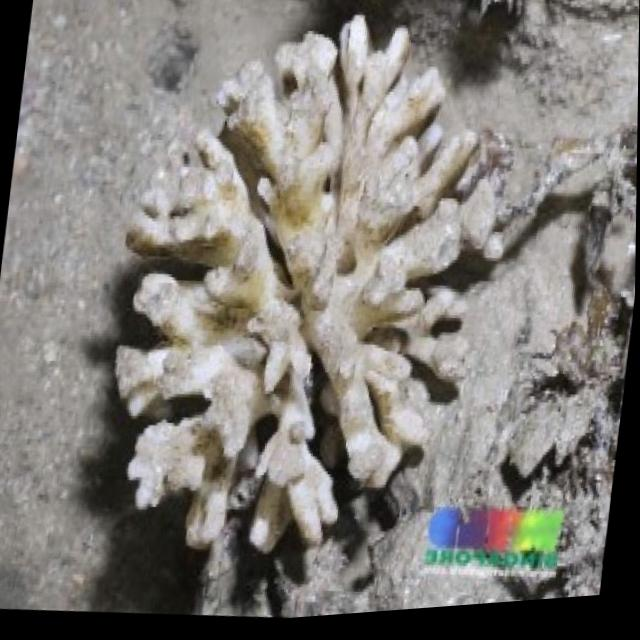Bleached Coral: (51, 0, 545, 627)
